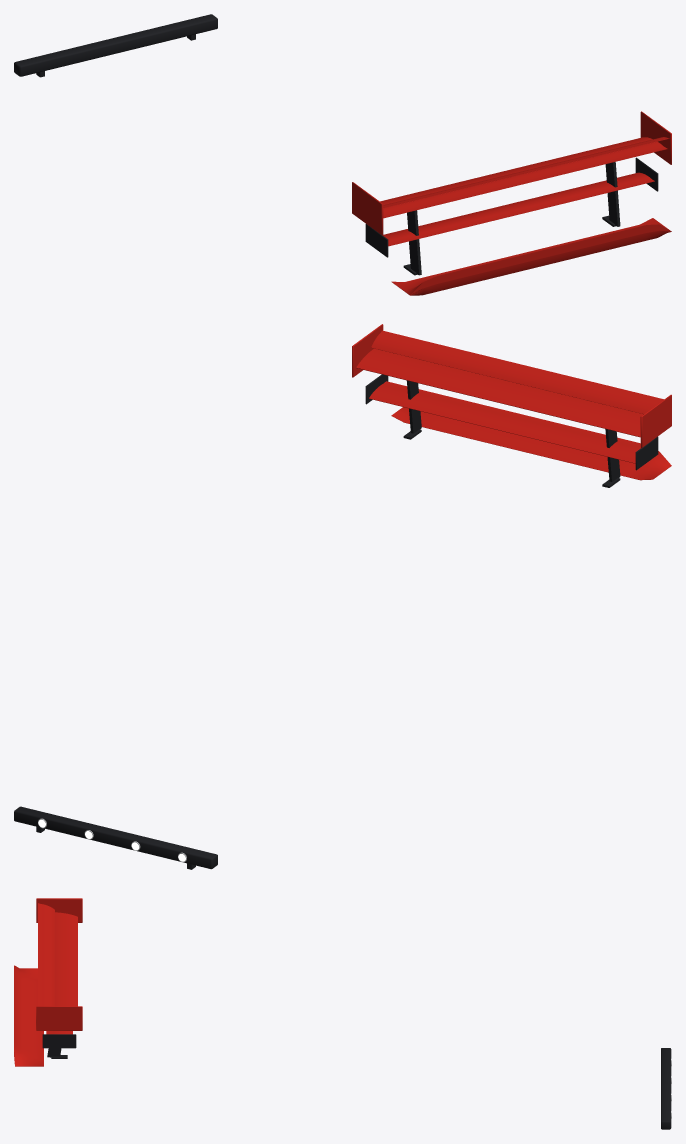
File: box_truck_kit.glb
3 views of the same model, one above another, from view 1: azimuth 30°, elevation 25°; view 2: azimuth 150°, elevation 25°; view 3: azimuth 270°, elevation 25° (orthographic). The views are drawn at different scales.
Visible parts, largest first — view 1: spoiler_mega, spoiler_wing, roof_lights, spoiler_ducktail, spoiler_lip; view 2: spoiler_mega, spoiler_wing, spoiler_ducktail, roof_lights; view 3: spoiler_mega, spoiler_ducktail, roof_lights, spoiler_wing.
Boxes of the visible parts, x1=… form: spoiler_mega: x1=352, y1=111, x2=671, y2=275; spoiler_wing: x1=365, y1=157, x2=658, y2=267; roof_lights: x1=14, y1=14, x2=217, y2=77; spoiler_ducktail: x1=391, y1=218, x2=671, y2=295; spoiler_lip: x1=411, y1=230, x2=671, y2=295; spoiler_mega: x1=352, y1=324, x2=671, y2=487; spoiler_wing: x1=365, y1=374, x2=658, y2=481; spoiler_ducktail: x1=391, y1=407, x2=671, y2=480; roof_lights: x1=14, y1=806, x2=217, y2=869; spoiler_mega: x1=36, y1=898, x2=82, y2=1058; spoiler_ducktail: x1=14, y1=965, x2=43, y2=1066; roof_lights: x1=661, y1=1048, x2=671, y2=1129; spoiler_wing: x1=42, y1=1031, x2=76, y2=1056.
Size of the model in its own units: 2.48 by 1.55 by 6.37.
